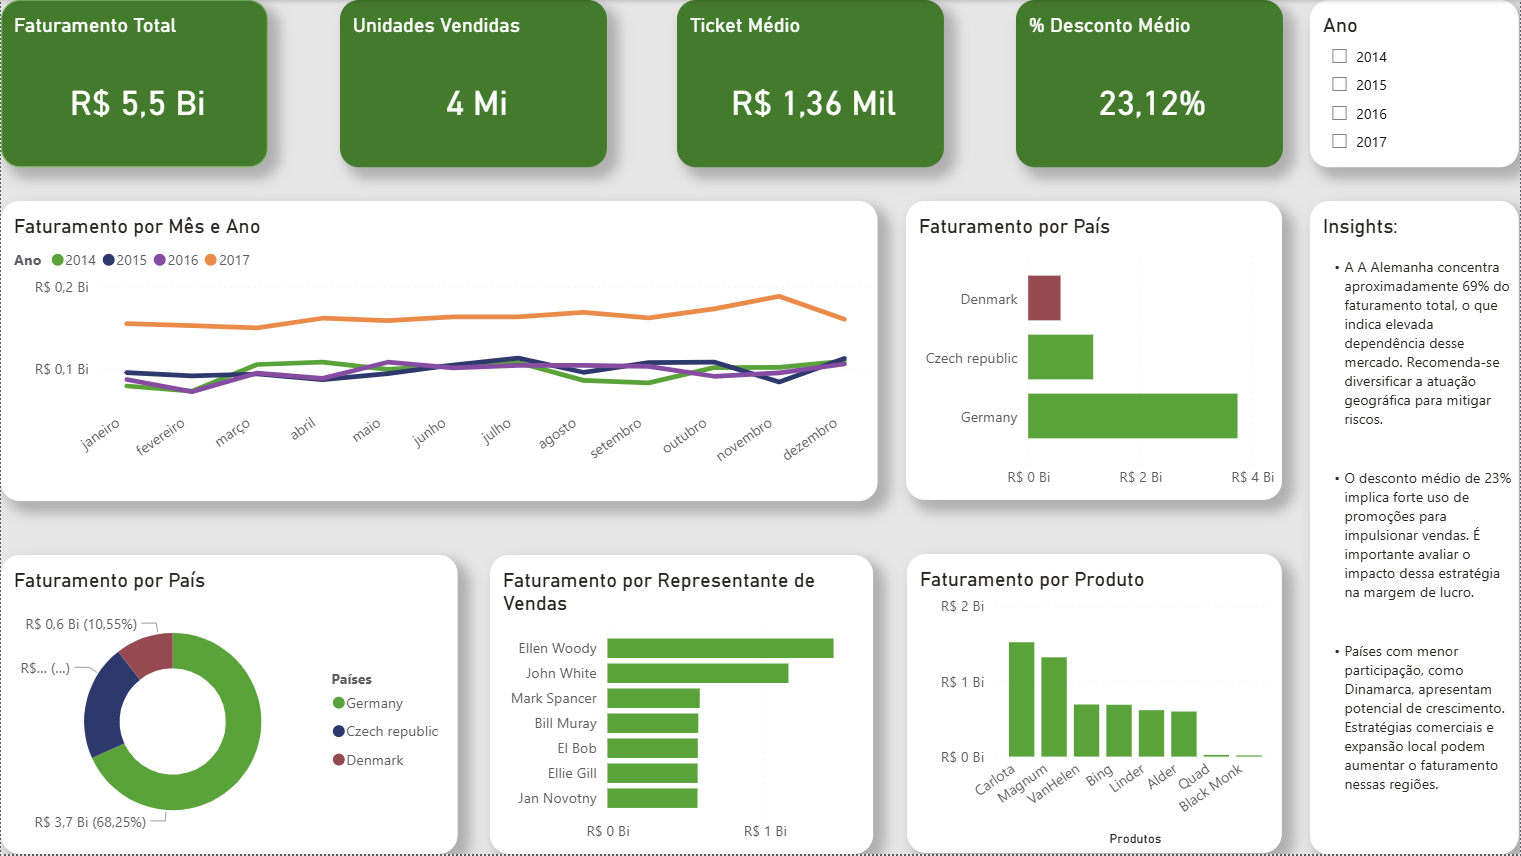

What the dashboard file says about the page in this screenshot:
{"tool":"powerbi","page":{"name":"Página 1","canvas":[1280,720],"ordinal":0},"visuals":[{"type":"barChart","title":"Faturamento por Representante de Vendas","fields":{"Category":["SalesRep.Sales Rep Name"],"Y":["fSales.Faturamento"]},"box":[412.6,467.9,322.9,252.1],"z":0},{"type":"slicer","title":"Ano","fields":{"Values":["D_Calendario.Ano"]},"box":[1103.6,0,176.4,140.9],"z":1000},{"type":"lineChart","title":"Faturamento por Mês e Ano","fields":{"Category":["D_Calendario.Mês Nome"],"Y":["fSales.Faturamento"],"Series":["D_Calendario.Ano"]},"box":[0,169.1,739.1,252.7],"z":2000},{"type":"barChart","title":"Faturamento por País","fields":{"Y":["fSales.Faturamento"],"Category":["DimCountry.Country"]},"box":[762.8,169.5,317,252.1],"z":3000},{"type":"card","title":"Faturamento Total","fields":{"Values":["fSales.Faturamento"]},"box":[0,0,225.5,140.9],"z":4000},{"type":"card","title":"Ticket Médio","fields":{"Values":["fSales.Ticket Médio"]},"box":[570,0,225.5,140.9],"z":5000},{"type":"card","title":"Unidades Vendidas","fields":{"Values":["fSales.Teste Units"]},"box":[285.5,0,225.5,140.9],"z":6000},{"type":"card","title":"% Desconto Médio","fields":{"Values":["Categories.% Desconto Médio"]},"box":[855.5,0,224.5,140.9],"z":7000},{"type":"donutChart","title":"Faturamento por País","fields":{"Category":["fSales.Location.Country"],"Y":["fSales.Faturamento"]},"box":[0,468.2,384.5,251.8],"z":8000},{"type":"columnChart","title":"Faturamento por Produto","fields":{"Category":["Product.ProductName"],"Y":["fSales.Faturamento"]},"box":[763.6,467.3,316.4,251.8],"z":9000},{"type":"textbox","box":[1103.6,169.5,176.2,550.5],"z":10000}]}

Visuals, with their boxes in screenshot pixels (x1, y1, x2, y2), scaled from the page's 1280x720 canvas onto the 1521x856 screenshot:
"Faturamento por Representante de Vendas" barChart: region(490, 556, 874, 855)
"Ano" slicer: region(1311, 0, 1520, 168)
"Faturamento por Mês e Ano" lineChart: region(0, 201, 878, 501)
"Faturamento por País" barChart: region(906, 202, 1283, 501)
"Faturamento Total" card: region(0, 0, 268, 168)
"Ticket Médio" card: region(677, 0, 945, 168)
"Unidades Vendidas" card: region(339, 0, 607, 168)
"% Desconto Médio" card: region(1017, 0, 1283, 168)
"Faturamento por País" donutChart: region(0, 557, 457, 855)
"Faturamento por Produto" columnChart: region(907, 556, 1283, 855)
textbox: region(1311, 202, 1520, 855)
